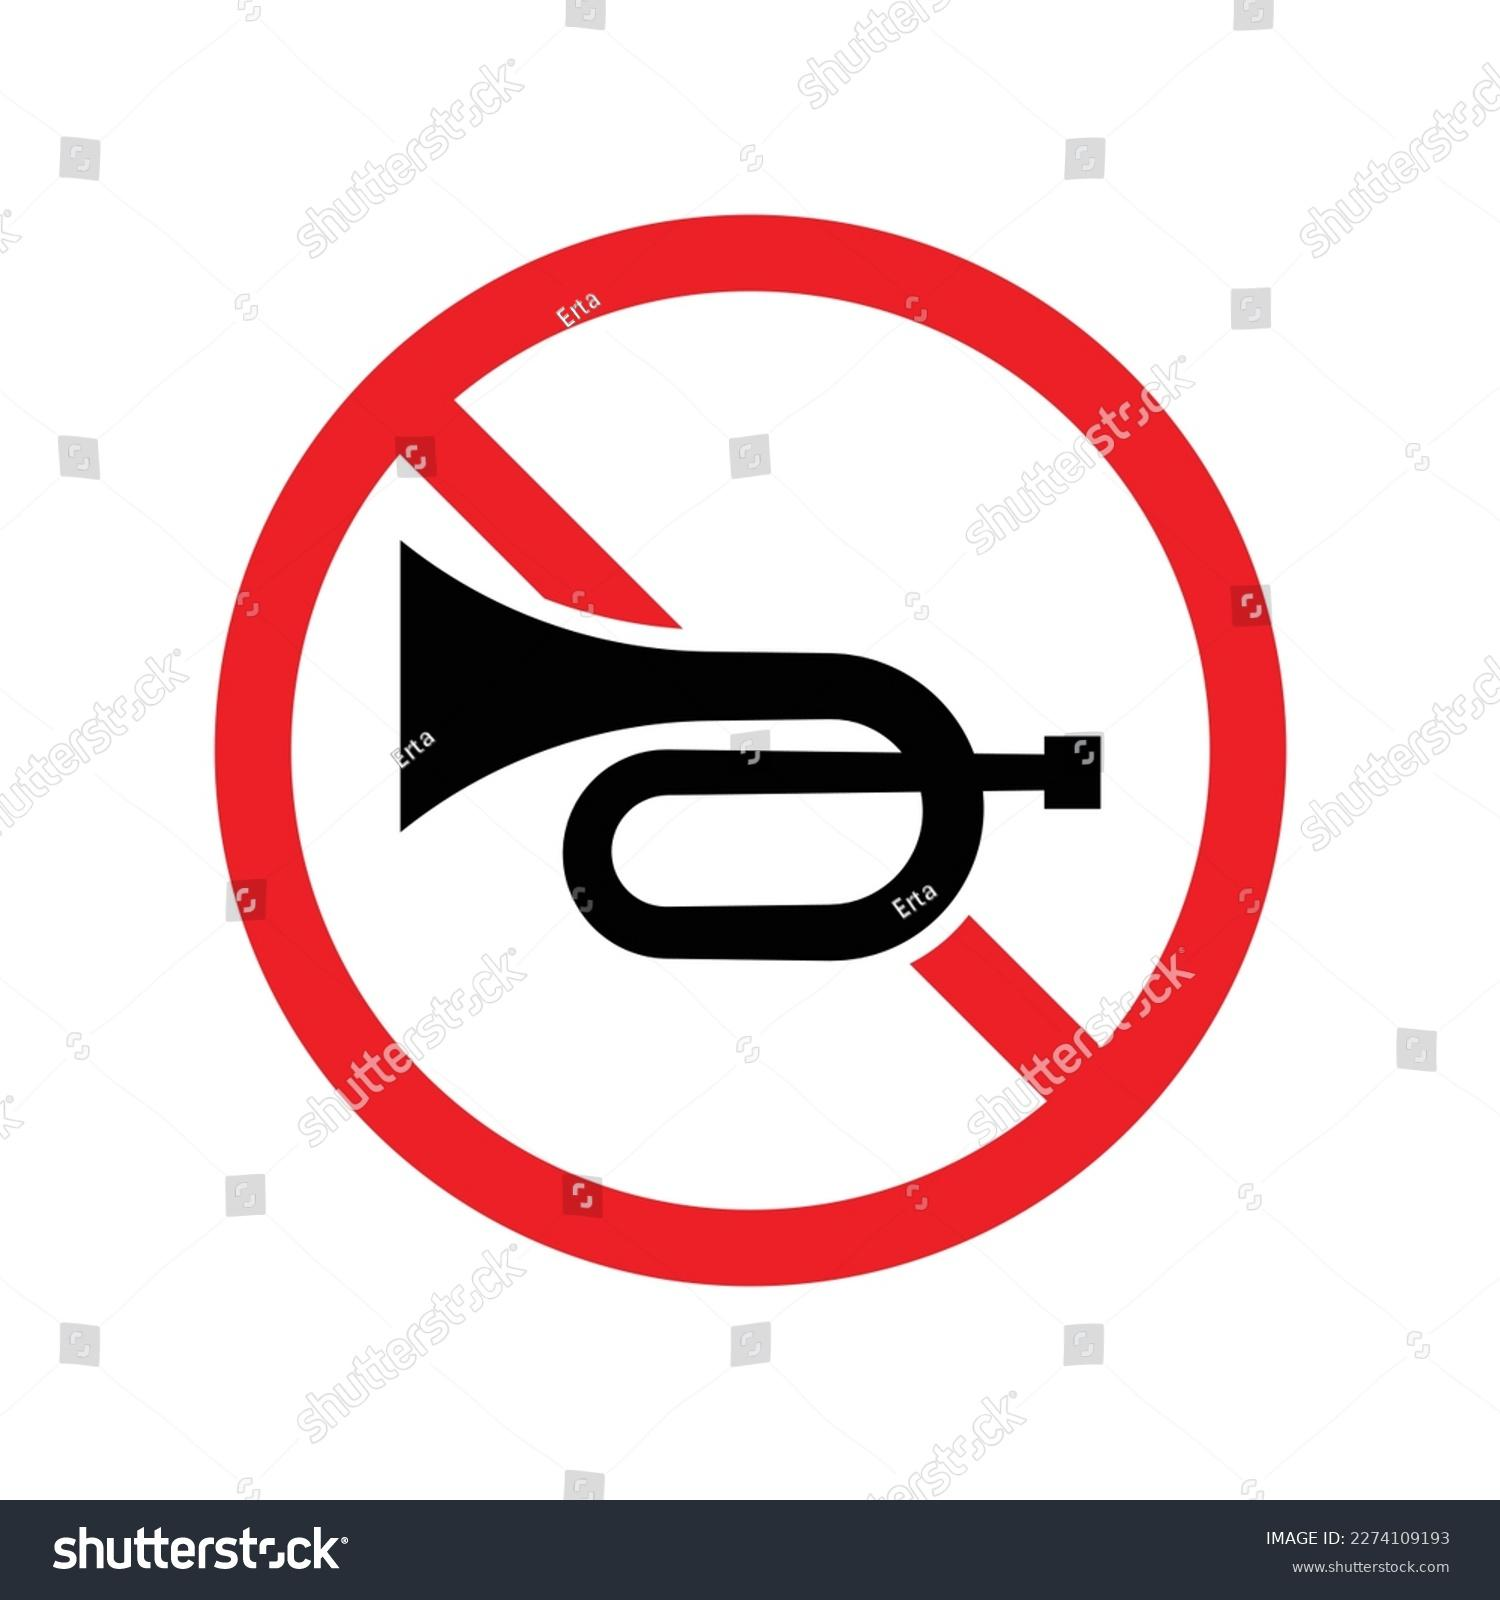Horn Prohibited: (197, 204, 1304, 1317)
